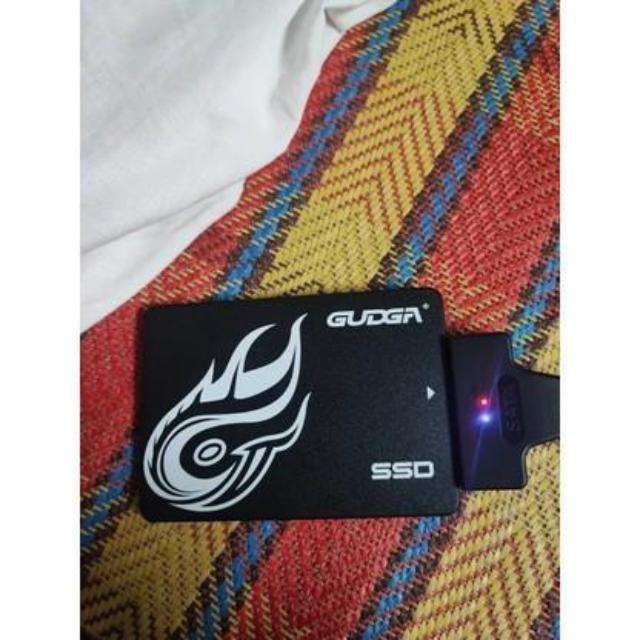DISK: (136, 289, 464, 522)
